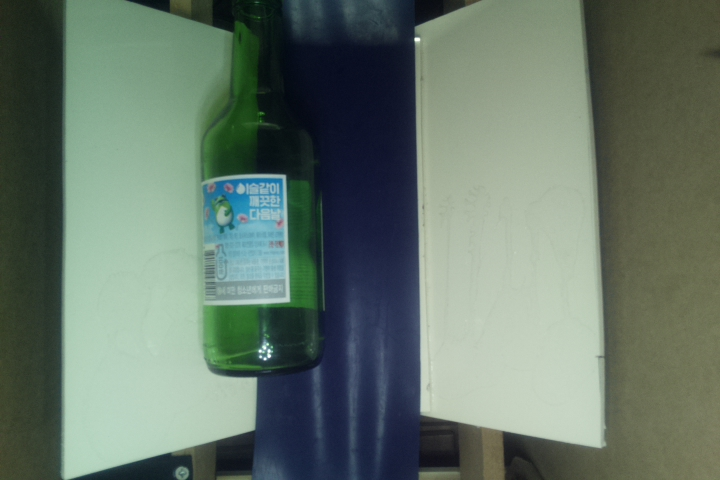soju: (198, 1, 325, 376)
